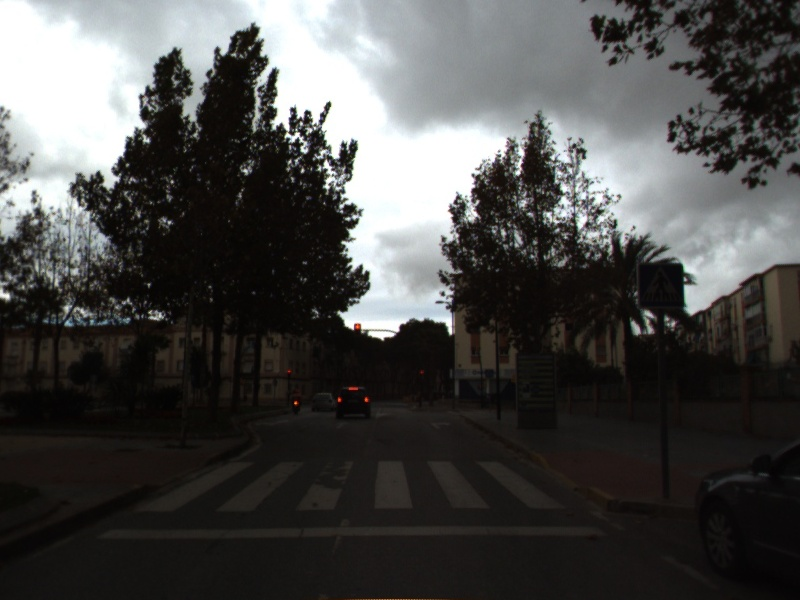RIGHT: (429, 419, 453, 432)
STRAIGHT: (333, 420, 351, 431)
STRAIGHT_LEFT: (253, 418, 290, 428)
